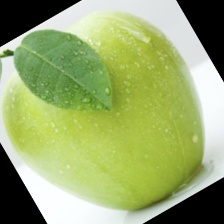apple: (23, 32, 185, 220)
